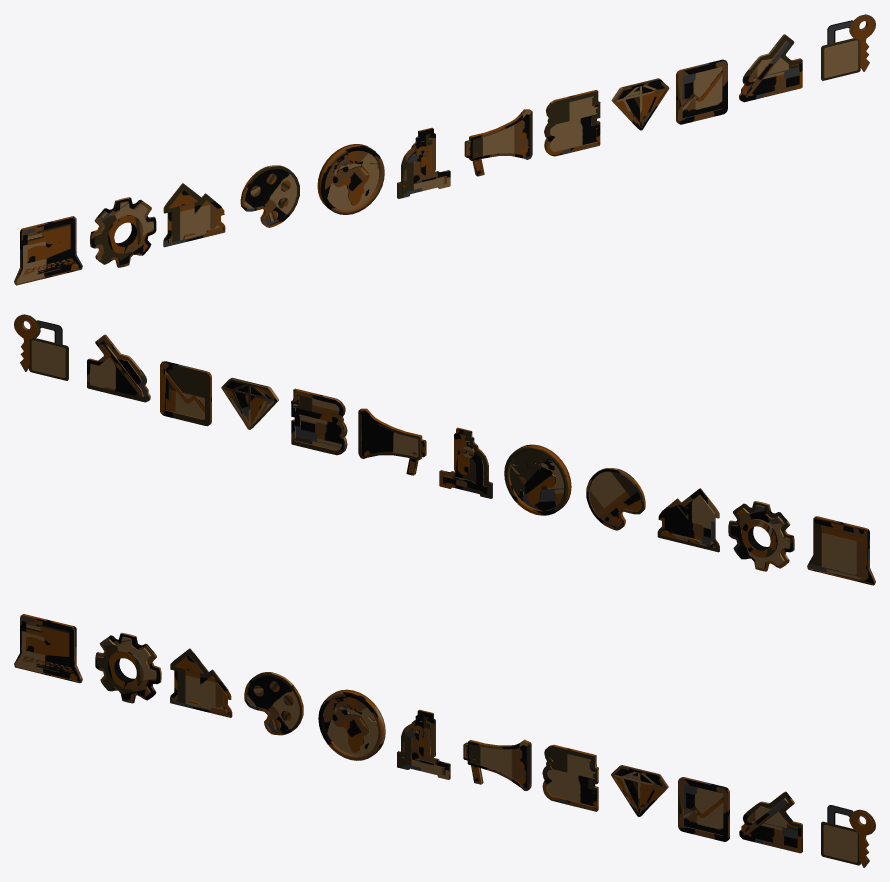
Rendered from Skill-Badges-Master-File2.fbx.
3 renders of one model, top to bottom at view 1: azimuth 30°, elevation 25°; view 2: azimuth 150°, elevation 25°; view 3: azimuth 330°, elevation 25°, orthographic.
Parts seen in each view (by area): view 1: Translator Badge, Dev Badge, Legal Badge, Ops Badge, Data Analytics Badge, Community Badge, Design Badge, Writing Badge, Marketing Badge, Admin Badge, Research Badge, Product Badge; view 2: Translator Badge, Dev Badge, Legal Badge, Ops Badge, Data Analytics Badge, Community Badge, Design Badge, Writing Badge, Marketing Badge, Admin Badge, Research Badge, Product Badge; view 3: Translator Badge, Dev Badge, Legal Badge, Ops Badge, Data Analytics Badge, Community Badge, Design Badge, Writing Badge, Marketing Badge, Admin Badge, Research Badge, Product Badge.
Part boxes in pixels (bbox=[...]): Translator Badge: bbox=[317, 144, 384, 214]; Dev Badge: bbox=[14, 216, 82, 285]; Legal Badge: bbox=[544, 90, 600, 156]; Ops Badge: bbox=[90, 197, 156, 267]; Data Analytics Badge: bbox=[676, 59, 727, 124]; Community Badge: bbox=[163, 183, 225, 247]; Design Badge: bbox=[240, 165, 299, 227]; Writing Badge: bbox=[739, 34, 802, 102]; Marketing Badge: bbox=[464, 109, 532, 176]; Admin Badge: bbox=[821, 14, 875, 80]; Research Badge: bbox=[397, 127, 450, 198]; Product Badge: bbox=[611, 78, 669, 130]; Translator Badge: bbox=[504, 444, 571, 515]; Dev Badge: bbox=[807, 516, 875, 585]; Legal Badge: bbox=[291, 388, 347, 455]; Ops Badge: bbox=[728, 501, 794, 571]; Data Analytics Badge: bbox=[160, 361, 211, 426]; Community Badge: bbox=[657, 488, 719, 552]; Design Badge: bbox=[586, 468, 645, 530]; Writing Badge: bbox=[87, 334, 150, 402]; Marketing Badge: bbox=[358, 408, 426, 475]; Admin Badge: bbox=[14, 314, 68, 380]; Research Badge: bbox=[439, 427, 492, 498]; Product Badge: bbox=[221, 377, 278, 429]; Translator Badge: bbox=[318, 689, 385, 760]; Dev Badge: bbox=[14, 614, 82, 683]; Legal Badge: bbox=[542, 744, 598, 811]; Ops Badge: bbox=[95, 632, 161, 703]; Data Analytics Badge: bbox=[678, 777, 729, 841]; Community Badge: bbox=[170, 648, 232, 717]; Design Badge: bbox=[244, 672, 303, 735]; Writing Badge: bbox=[739, 791, 802, 853]; Marketing Badge: bbox=[463, 739, 531, 790]; Admin Badge: bbox=[821, 805, 875, 867]; Research Badge: bbox=[397, 709, 450, 779]; Product Badge: bbox=[611, 765, 668, 816].
Bounding box in the file's own units: 393 × 32.04 × 5.6.
12 materials, 12 textured.
